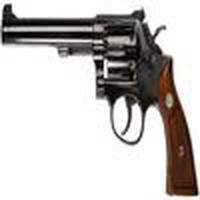gun: (1, 6, 200, 178)
